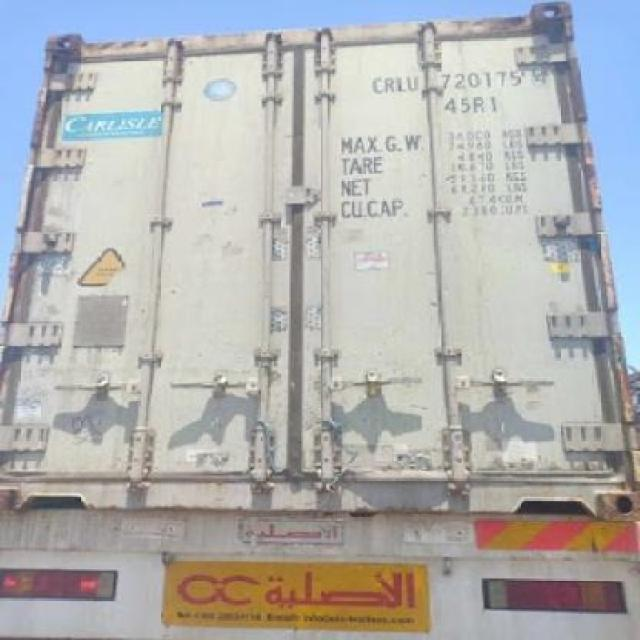ISO: (444, 94, 506, 118)
container_number: (376, 66, 552, 90)
